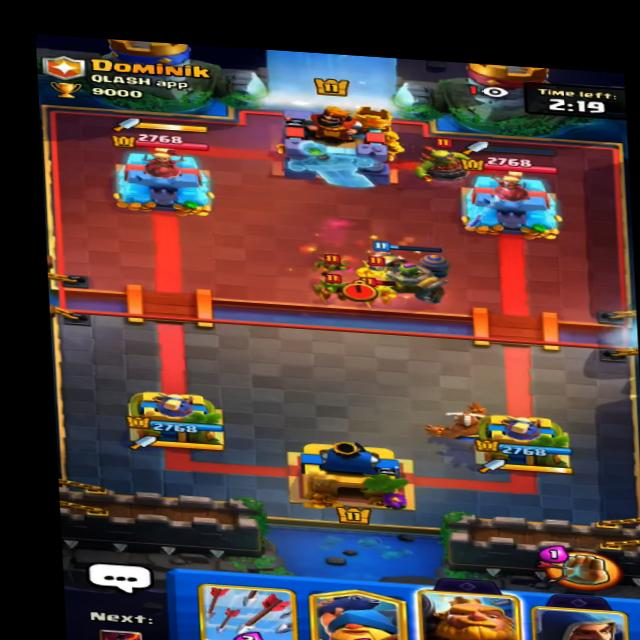goblin: (310, 272, 348, 302), (314, 248, 352, 275), (367, 280, 398, 307), (355, 260, 389, 280)
goblin-demolisher: (402, 139, 478, 184)
